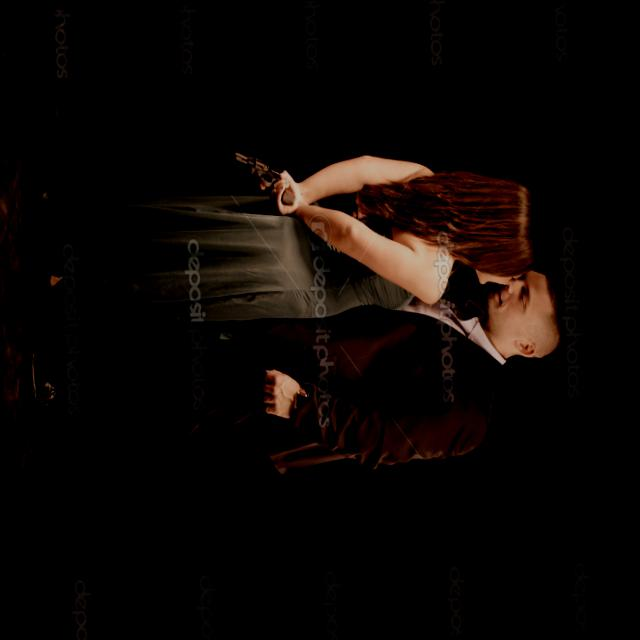handgun: (232, 128, 305, 214)
